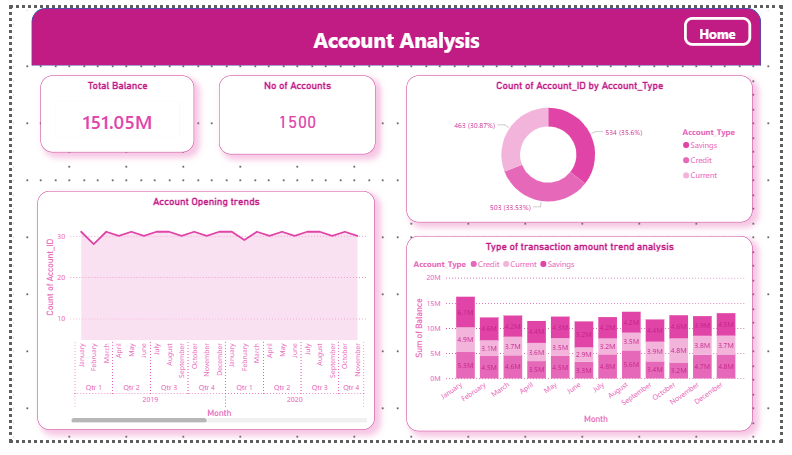

Layout of this report page (visuals, bound fields, positions):
{"tool":"powerbi","page":{"name":"Account Analysis","canvas":[1280,720],"ordinal":2},"visuals":[{"type":"cardVisual","title":"Total Balance","fields":{"Data":["Balance & Account Measure.Total Balance"]},"box":[48,112,256,128],"z":0},{"type":"columnChart","title":"Type of transaction amount trend analysis","fields":{"Category":["Accounts.O_date.Variation.Date Hierarchy.Year","Accounts.O_date.Variation.Date Hierarchy.Quarter","Accounts.O_date.Variation.Date Hierarchy.Month","Accounts.O_date.Variation.Date Hierarchy.Day","Accounts.Month"],"Series":["Accounts.Account_Type"],"Y":["Sum(Accounts.Balance)"]},"box":[657.4,378.9,576.4,325.5],"z":1000},{"type":"donutChart","fields":{"Category":["Accounts.Account_Type"],"Y":["CountNonNull(Accounts.Account_ID)"]},"box":[657.4,111.7,576.4,244.5],"z":2000},{"type":"stackedAreaChart","title":"Account Opening trends","fields":{"Category":["Accounts.O_date.Variation.Date Hierarchy.Year1","Accounts.O_date.Variation.Date Hierarchy.Quarter","Accounts.O_date.Variation.Date Hierarchy.Month","Accounts.O_date.Variation.Date Hierarchy.Day","Accounts.O_date.Variation.Date Hierarchy.Year"],"Y":["CountNonNull(Accounts.Account_ID)"]},"box":[43.7,306,561.9,398.3],"z":3000},{"type":"card","title":"No of Accounts","fields":{"Values":["Basic Measure.Total_Accounts"]},"box":[344.9,111.7,260.7,131.2],"z":4000},{"type":"shape","box":[32,0,1216,96],"z":5000},{"type":"actionButton","box":[1120,16,112,48],"z":6000}]}

Visuals, with their boxes in screenshot pixels (x1, y1, x2, y2), scaled from the page's 1280x720 canvas onto the 792x455 screenshot:
"Total Balance" cardVisual: (30, 71, 188, 152)
"Type of transaction amount trend analysis" columnChart: (407, 239, 763, 445)
donutChart - Accounts.Account_Type x CountNonNull(Accounts.Account_ID): (407, 71, 763, 225)
"Account Opening trends" stackedAreaChart: (27, 193, 375, 445)
"No of Accounts" card: (213, 71, 375, 153)
shape: (20, 0, 772, 61)
actionButton: (693, 10, 762, 40)
